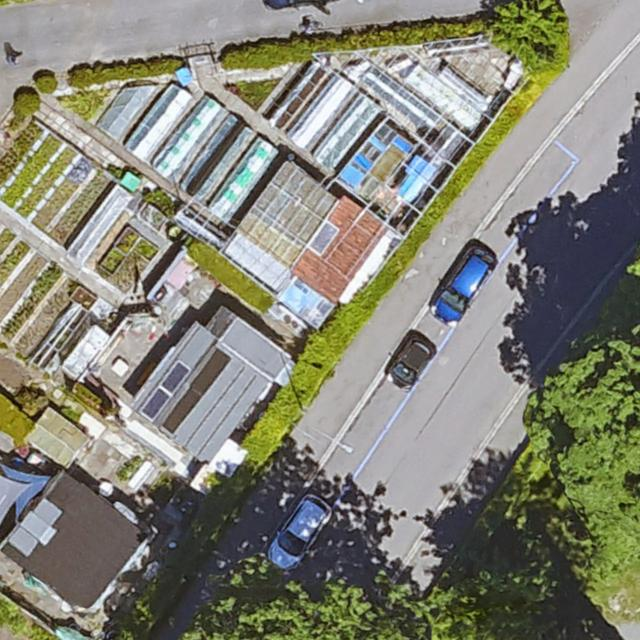tree: (528, 337, 640, 577), (174, 564, 400, 640), (383, 575, 552, 640), (493, 0, 571, 65)
